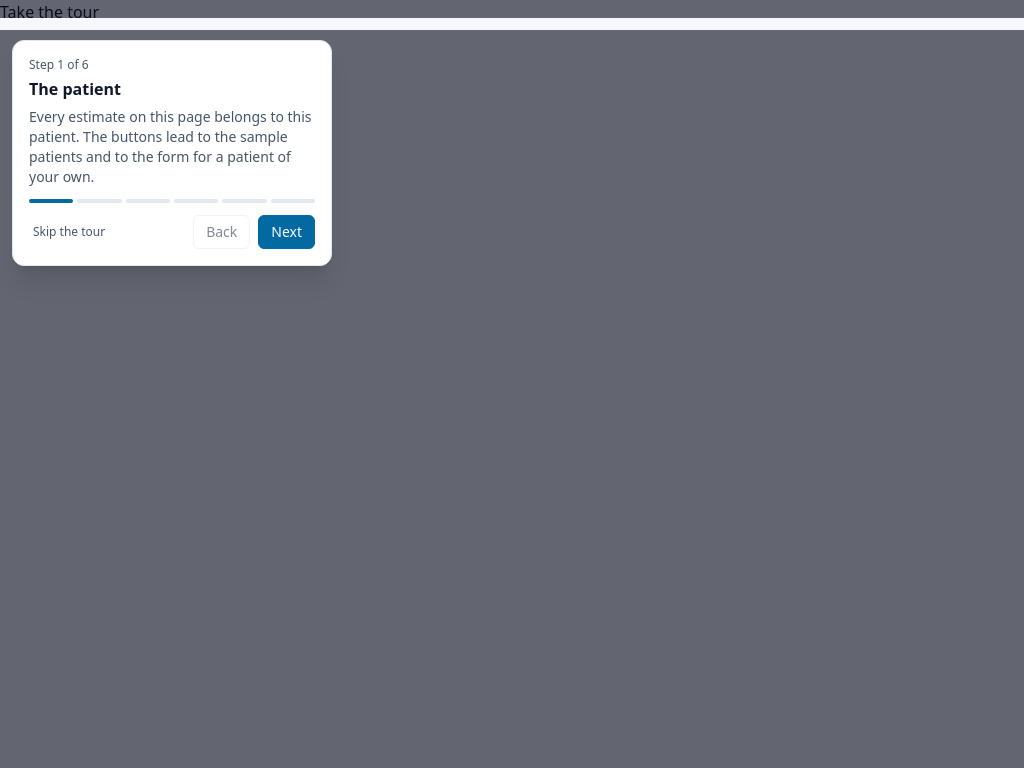
Scenario: guided tour › says the safety limits where they belong
Step 1. Click the button "Next" → click(287, 232), box [258,215,315,249]
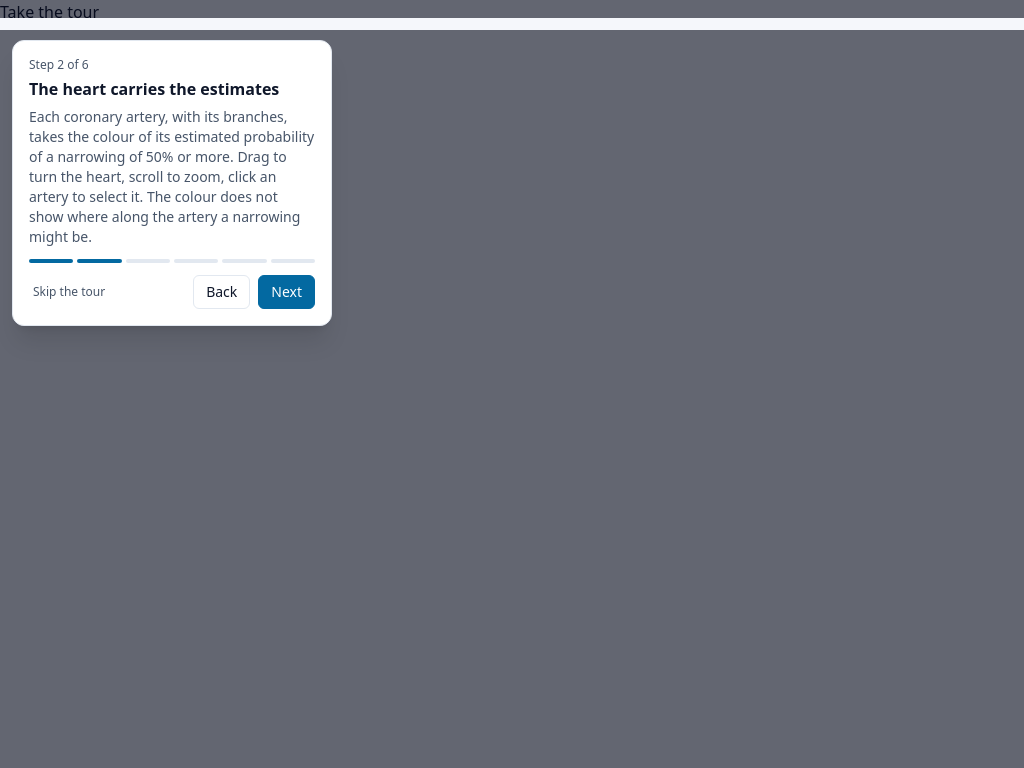
Expected: the dialog named "Guided tour" shows "The colour does not show where along the artery a narrowing might be.", [29,107,314,246]
Step 2. Click the button "Next" → click(287, 292), box [258,275,315,309]
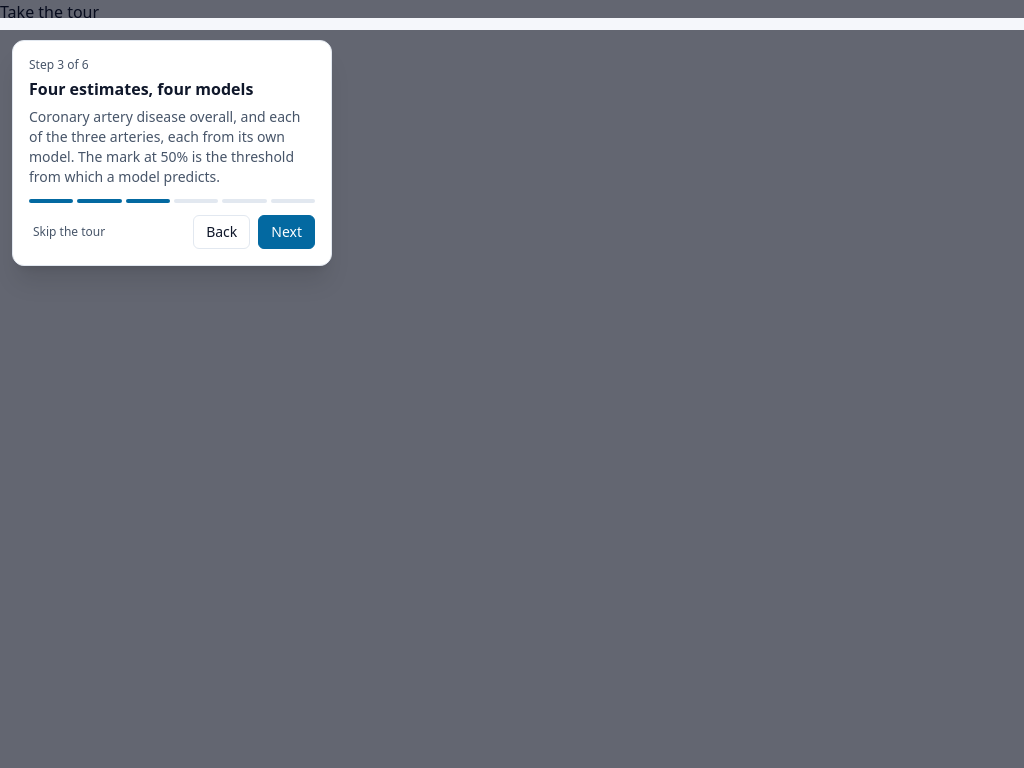
Step 3. Click the button "Next" → click(287, 232), box [258,215,315,249]
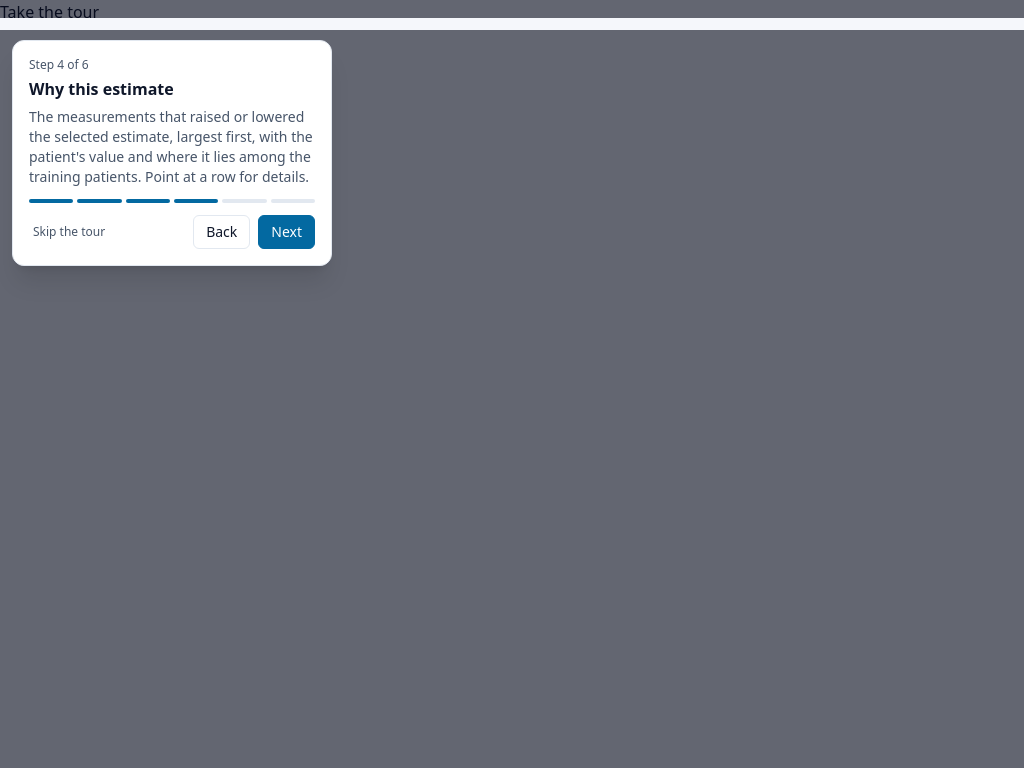
Step 4. Click the button "Next" → click(287, 232), box [258,215,315,249]
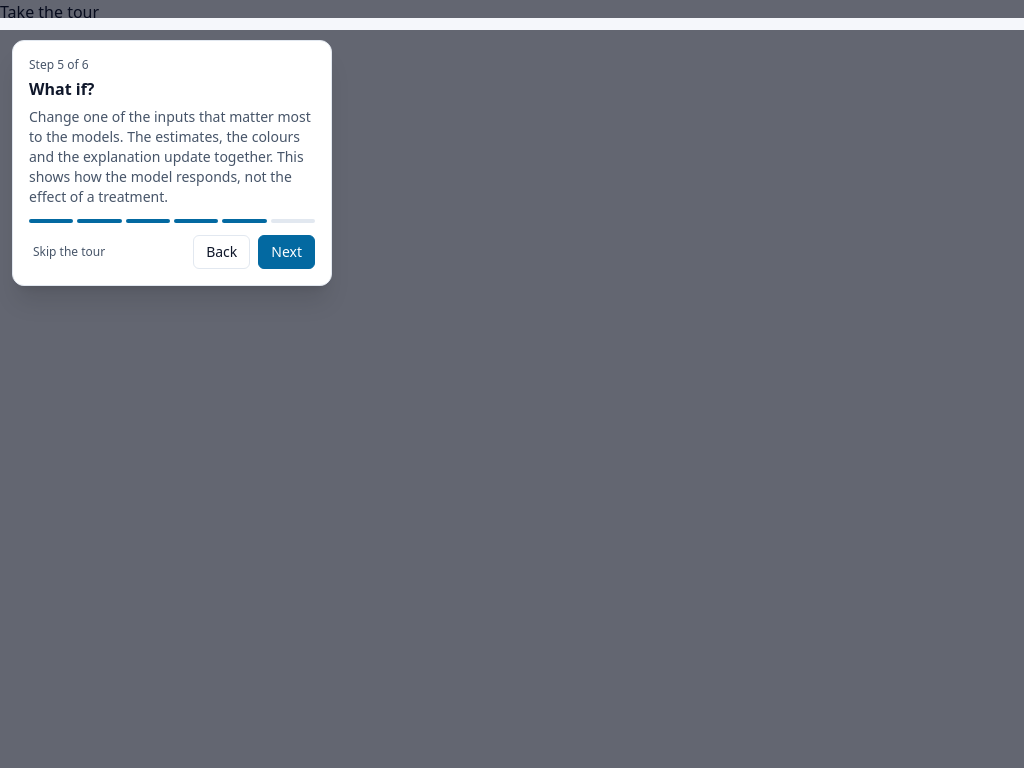
Expected: the dialog named "Guided tour" shows "This shows how the model responds, not the effect of a treatment.", [29,107,311,206]
